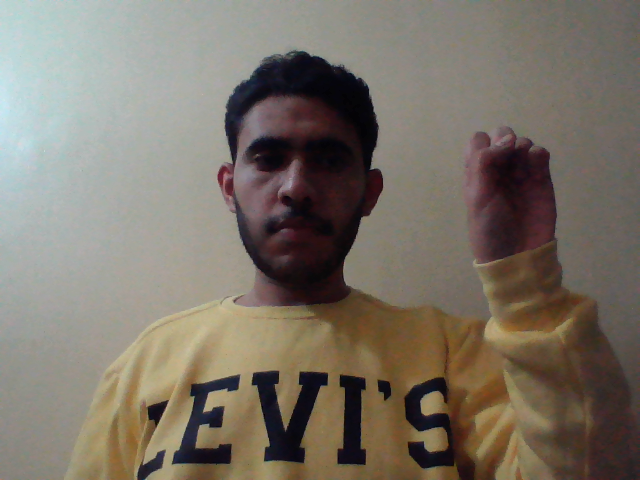S: (458, 120, 566, 278)
